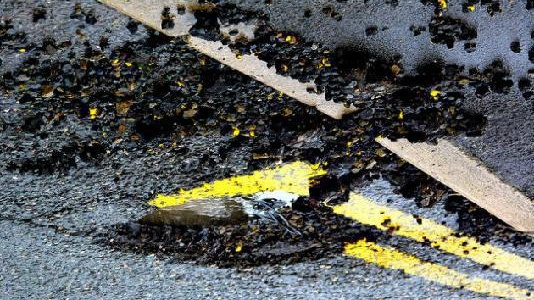pothole: (91, 197, 383, 273)
